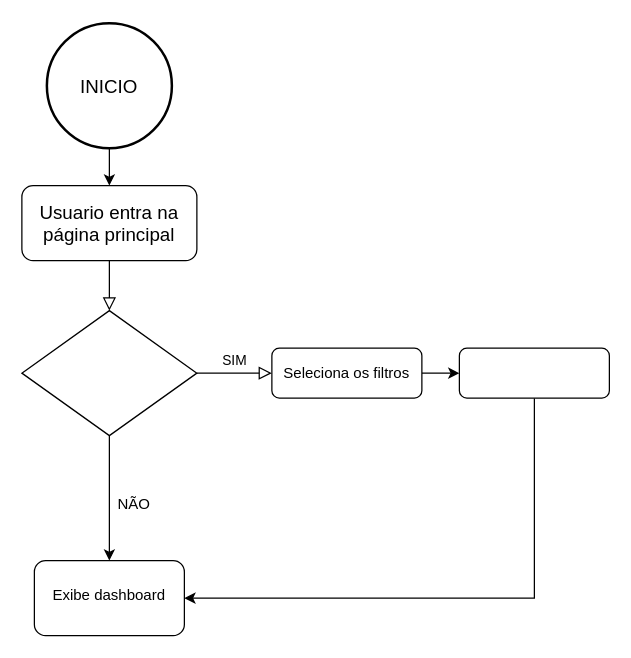
The diagram is 631 pixels wide and 658 high, and some of its shapes have lost their labels. The shapes that lost their labels are listed below. From the top down, each one's centre as x and y in pixels, then its label:
the point at 109,372: Deseja aplicar filtros?
the point at 533,372: Atualiza Dashboard
